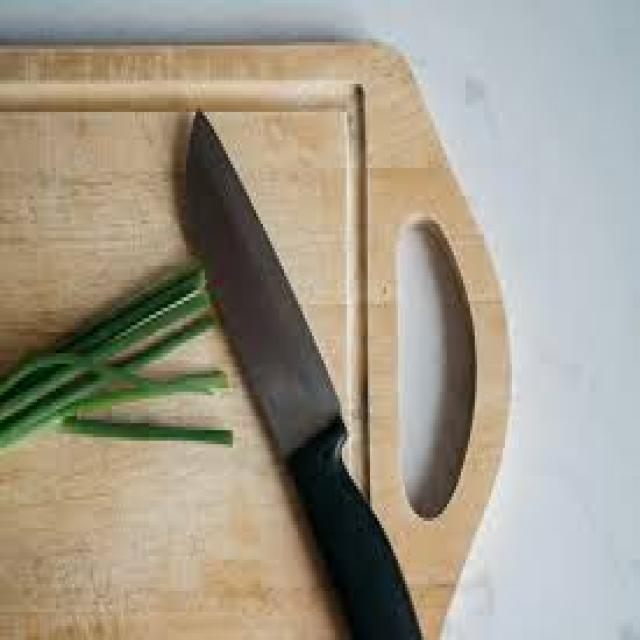Knife: (184, 108, 421, 637)
